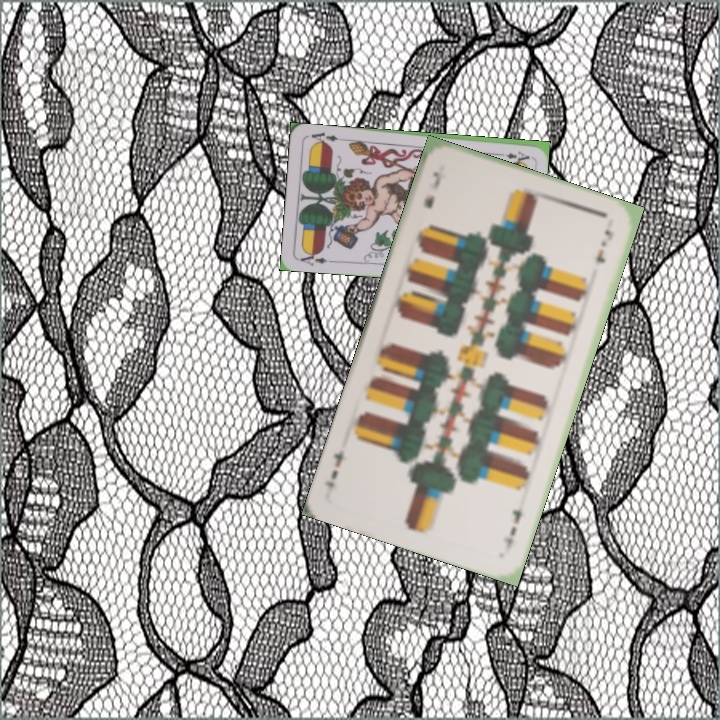E7: (500, 504, 525, 554), (419, 167, 443, 211)
EA: (295, 247, 329, 268), (492, 147, 532, 162)
